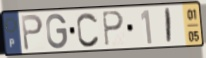1: (140, 9, 153, 45)
C: (76, 11, 101, 49)
G: (45, 13, 69, 51)
I: (165, 7, 173, 46)
P: (20, 13, 45, 53), (101, 10, 126, 48)
